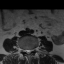CCS_stenosis: (27, 47, 29, 56)
LFS_normal: (32, 45, 34, 53)
LLS_normal: (29, 47, 32, 54)
RFS_normal: (22, 46, 25, 53)
RLS_normal: (25, 47, 27, 54)
